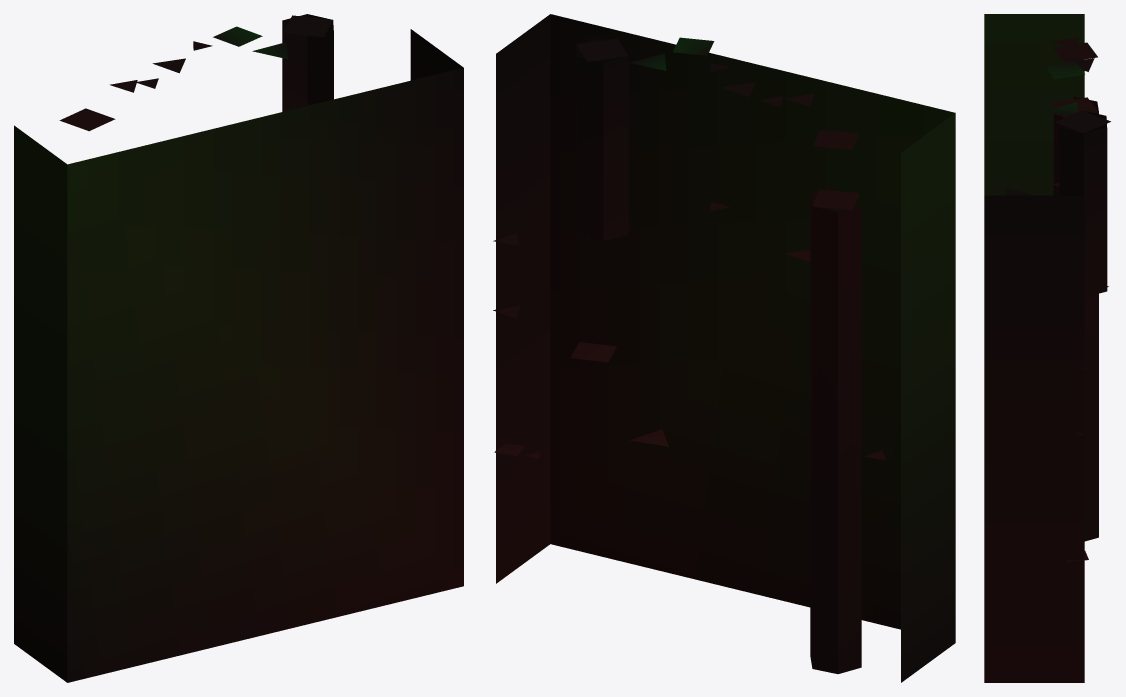
File: tf_basalt_columns_l_15m_lod2.glb
3 renders of one model, left to right at view 1: azimuth 30°, elevation 25°; view 2: azimuth 150°, elevation 25°; view 3: azimuth 270°, elevation 25°, orthographic. The views are drawn at different scales.
Parts seen in each view (by area): view 1: tf_basalt_columns_l_15m_lod2; view 2: tf_basalt_columns_l_15m_lod2; view 3: tf_basalt_columns_l_15m_lod2.
Part boxes in pixels (x1,y1,x2,y2): tf_basalt_columns_l_15m_lod2: (14,14,463,682); tf_basalt_columns_l_15m_lod2: (493,14,955,682); tf_basalt_columns_l_15m_lod2: (984,14,1110,682).
Bounding box in the file's own units: 12.15 × 16.28 × 3.55.
